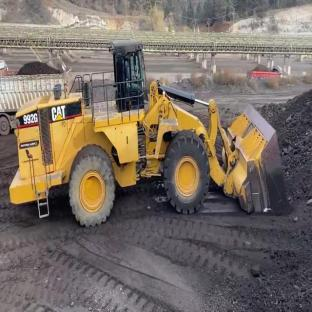ExcavationMachinery: (19, 0, 292, 222)
